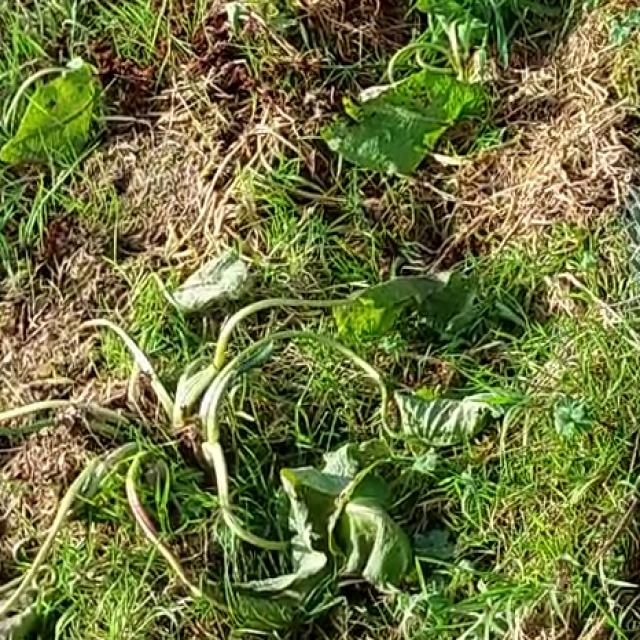organic waste: (0, 270, 558, 636), (292, 0, 542, 189), (0, 28, 146, 216)
